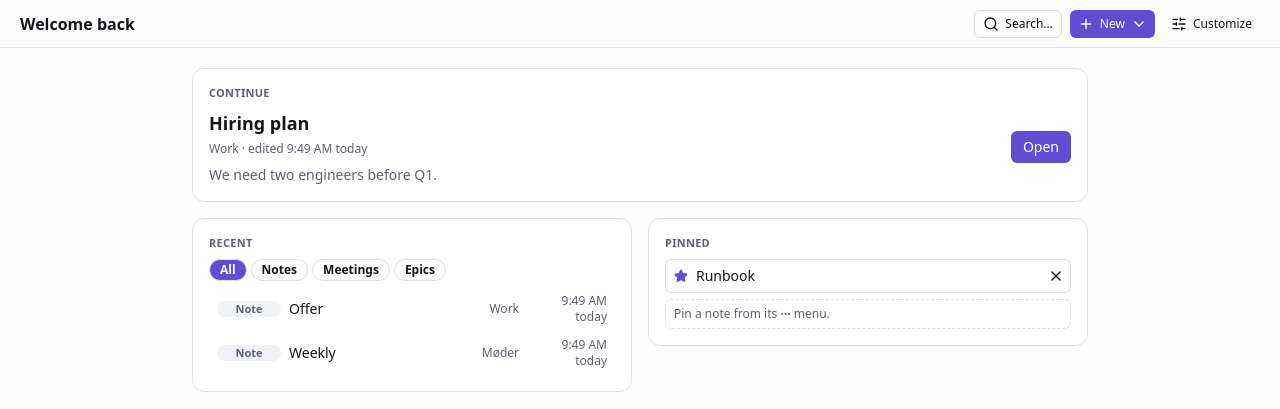
Test: StartPage › New offers a note, a meeting, a quick note, a task and an idea
Click the button "New". click: coordinates (1112, 24)
box: [1070,10,1155,38]
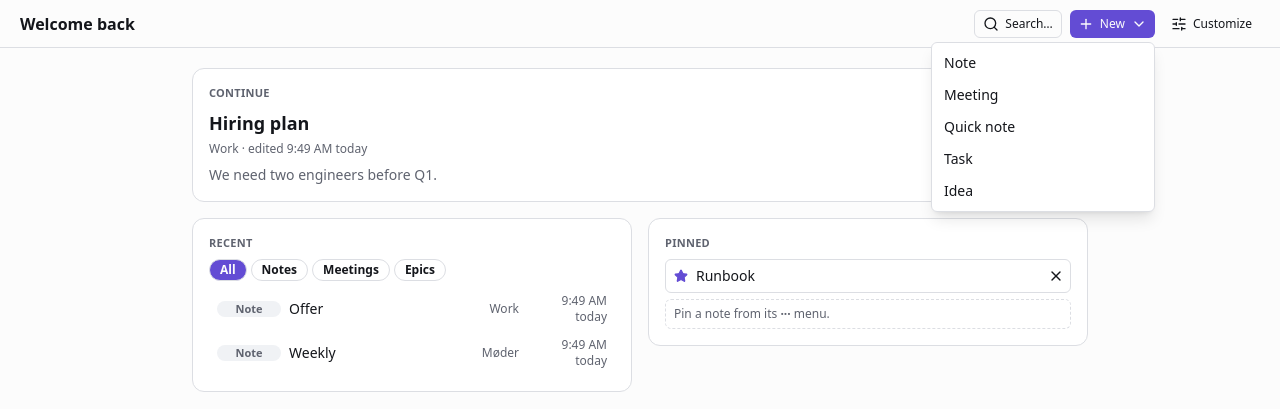
Click the menu item "Meeting". click: coordinates (971, 94)
box: [944,85,998,104]
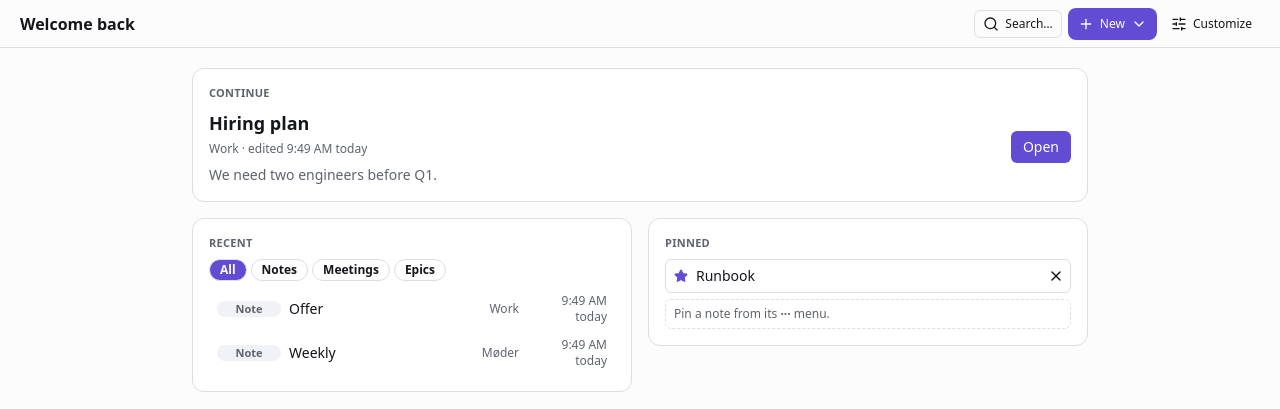
Click the button "New". click: coordinates (1112, 24)
box: [1070,10,1155,38]
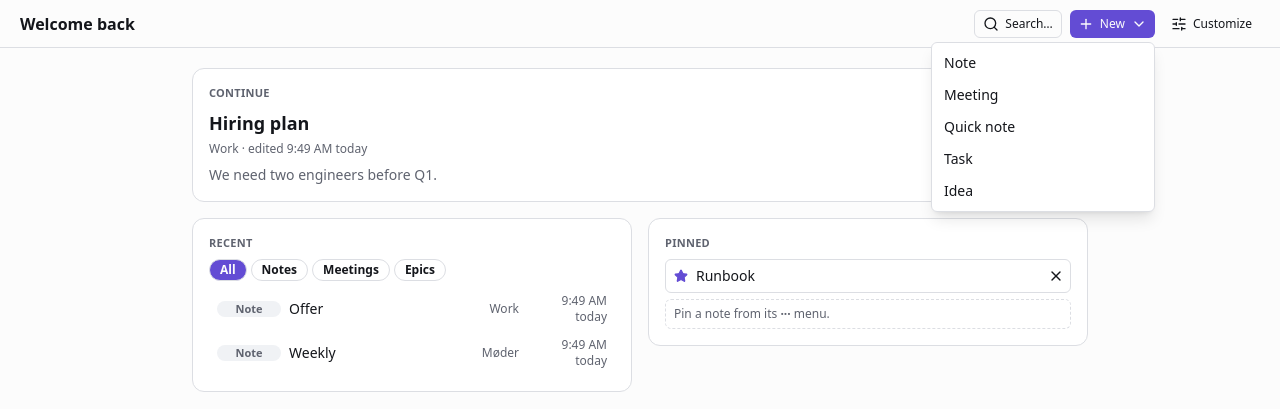
Click the menu item "Task". click: coordinates (958, 158)
box: [944,149,973,168]
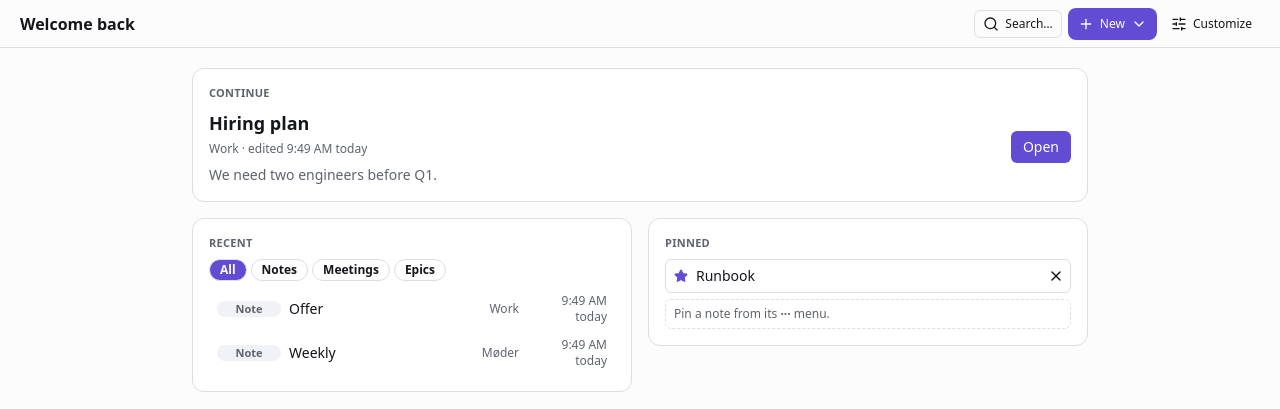
Click the button "New". click: coordinates (1112, 24)
box: [1070,10,1155,38]
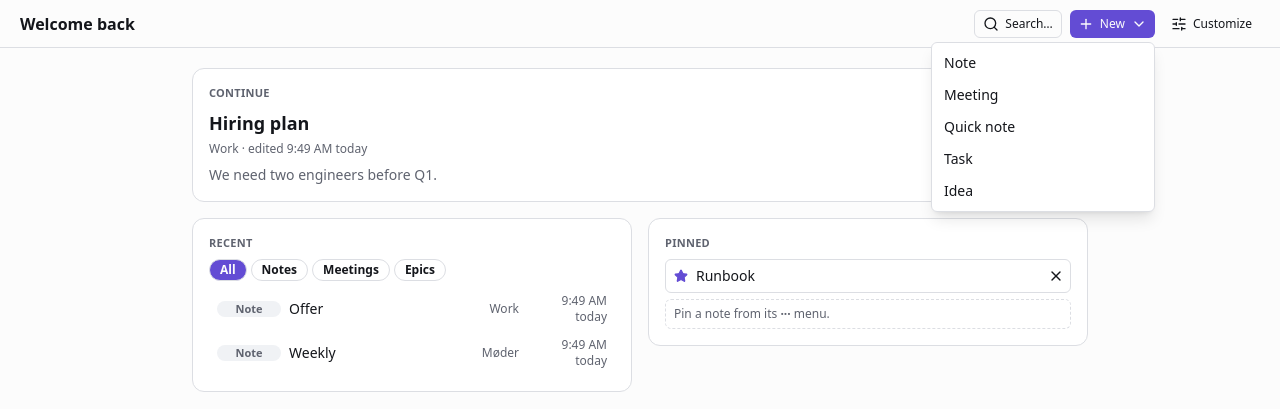
Now the menu item "Quick note" is shown, box [944,117,1015,136]
Now the menu item "Idea" is shown, box [944,181,973,200]
